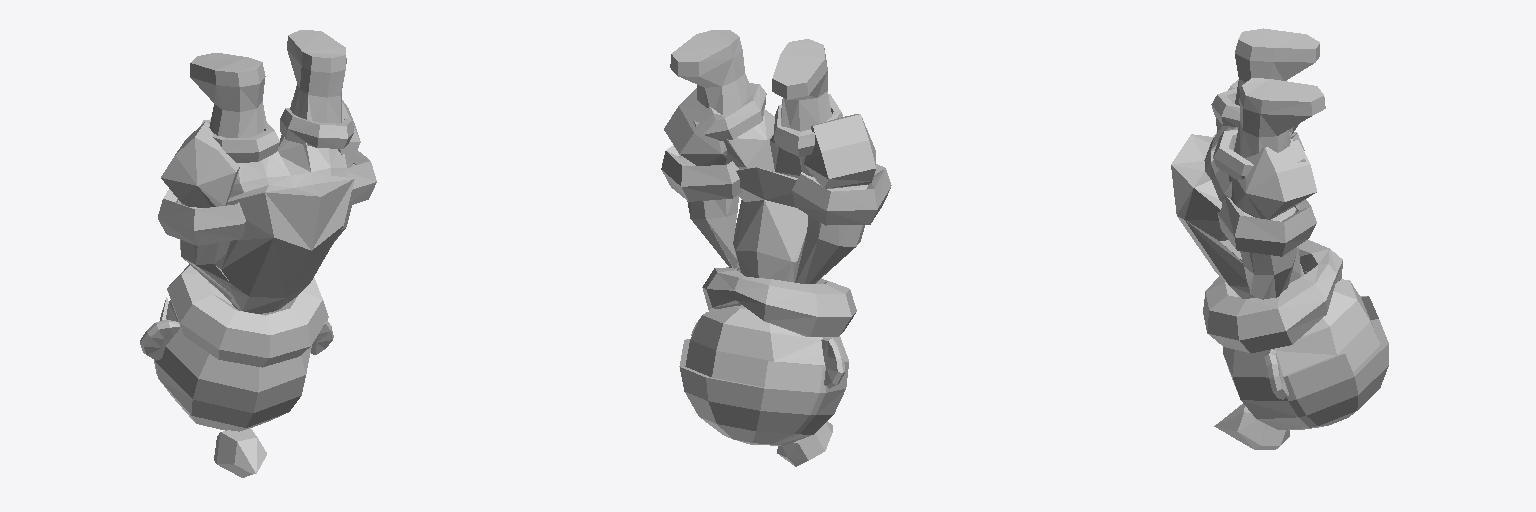
The model's file is eikadebil_000015.obj.
3 views of the same model, side by side, from view 1: azimuth 30°, elevation 25°; view 2: azimuth 150°, elevation 25°; view 3: azimuth 270°, elevation 25° (orthographic).
Visible parts, largest first — view 1: Cylinder; view 2: Cylinder; view 3: Cylinder.
Part boxes in pixels (x1,y1,x2,y2): Cylinder: (140, 30, 376, 477); Cylinder: (661, 30, 891, 466); Cylinder: (1171, 28, 1388, 449).
Bounding box in the file's own units: 28.76 × 54.62 × 26.13.